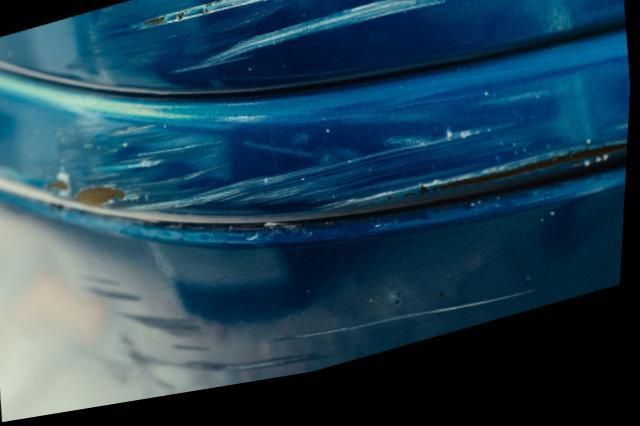scratch: (48, 0, 631, 404)
